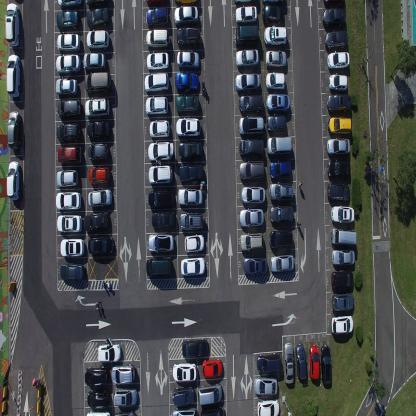car: (6, 52, 21, 99), (5, 2, 20, 48), (238, 159, 265, 182), (83, 72, 111, 94), (256, 351, 281, 375), (197, 382, 223, 405), (238, 115, 264, 138), (174, 71, 200, 94), (175, 116, 201, 139), (84, 96, 110, 119), (83, 210, 109, 233), (181, 336, 208, 358), (147, 140, 174, 162), (145, 257, 173, 278), (84, 363, 108, 387), (144, 72, 169, 95), (86, 119, 111, 142), (7, 110, 21, 151), (266, 135, 292, 157), (238, 138, 264, 160), (148, 231, 174, 253), (55, 53, 81, 75), (147, 189, 174, 210), (263, 25, 287, 48), (176, 26, 200, 49), (172, 360, 197, 382), (234, 24, 259, 46), (269, 181, 294, 203), (239, 206, 264, 228), (145, 28, 170, 50), (87, 187, 113, 208), (88, 234, 114, 255), (7, 159, 20, 200), (86, 7, 109, 30), (97, 341, 121, 363), (330, 269, 354, 291), (270, 252, 294, 274), (176, 49, 200, 71), (178, 139, 202, 161), (148, 163, 172, 185), (56, 31, 80, 53), (57, 98, 81, 120), (87, 165, 111, 187), (113, 386, 138, 407), (265, 93, 290, 114), (235, 72, 260, 93), (173, 5, 198, 26), (57, 145, 82, 166), (326, 94, 352, 114), (238, 94, 264, 114), (178, 162, 204, 182), (55, 190, 81, 210), (330, 227, 357, 246), (177, 187, 204, 206), (294, 342, 307, 381), (172, 385, 195, 407), (269, 159, 292, 181), (320, 344, 332, 386), (330, 314, 354, 335), (324, 30, 348, 51), (235, 48, 259, 69), (268, 228, 292, 249), (239, 231, 263, 252), (144, 95, 168, 116), (85, 30, 109, 51), (110, 364, 135, 384), (327, 116, 352, 136), (240, 184, 265, 204), (179, 212, 204, 232), (56, 214, 82, 233), (146, 50, 169, 71), (326, 136, 350, 156), (145, 8, 169, 28), (56, 10, 80, 30), (82, 52, 106, 72), (56, 122, 80, 142), (60, 238, 84, 258), (60, 262, 84, 282), (269, 205, 294, 224), (180, 257, 205, 276), (265, 49, 287, 70), (87, 142, 109, 163), (87, 388, 110, 408), (331, 204, 354, 224), (327, 181, 350, 201), (327, 50, 350, 70), (176, 94, 199, 114), (55, 77, 78, 97), (254, 377, 278, 396), (151, 210, 175, 229), (284, 341, 294, 386), (243, 256, 268, 274), (201, 358, 222, 379), (332, 292, 354, 312), (262, 5, 284, 25), (235, 5, 257, 25), (264, 71, 286, 91), (148, 119, 170, 139), (56, 168, 78, 188), (327, 160, 350, 179), (322, 8, 346, 26), (184, 232, 205, 252), (309, 342, 320, 380), (257, 397, 280, 415), (331, 248, 355, 265), (328, 72, 347, 92), (266, 115, 286, 132), (199, 406, 225, 416), (57, 0, 81, 10), (172, 408, 197, 416), (323, 0, 345, 8), (87, 408, 111, 415), (85, 0, 109, 7), (114, 408, 136, 415), (146, 0, 167, 7), (234, 0, 256, 6), (175, 0, 197, 6), (262, 0, 285, 5)
